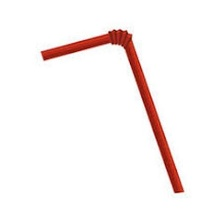drinking_straw: (35, 21, 197, 198)
